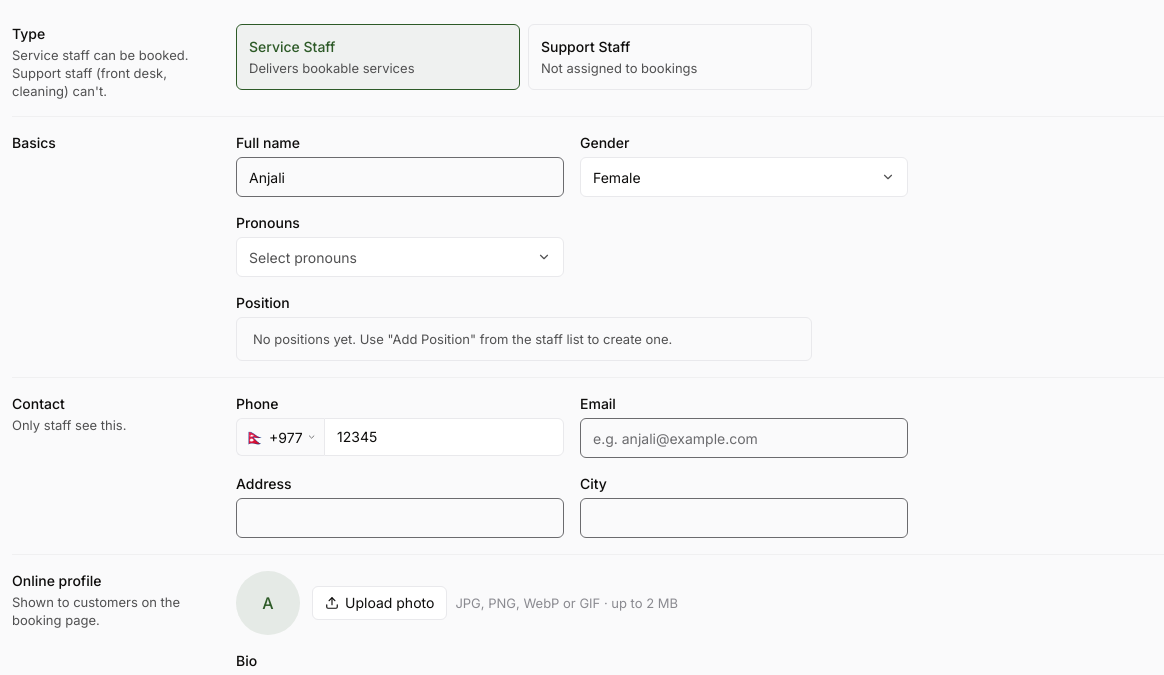
Scenario: staff profile phone (PhoneField) › renders a PhoneField; an untouched odd stored number shows no problem, a changed invalid one does
Check: the text "isn't valid for Nepal" is not shown
Replace the text in the field with id "staff-phone" with "98000" at (444, 437), box [324,418,564,456]
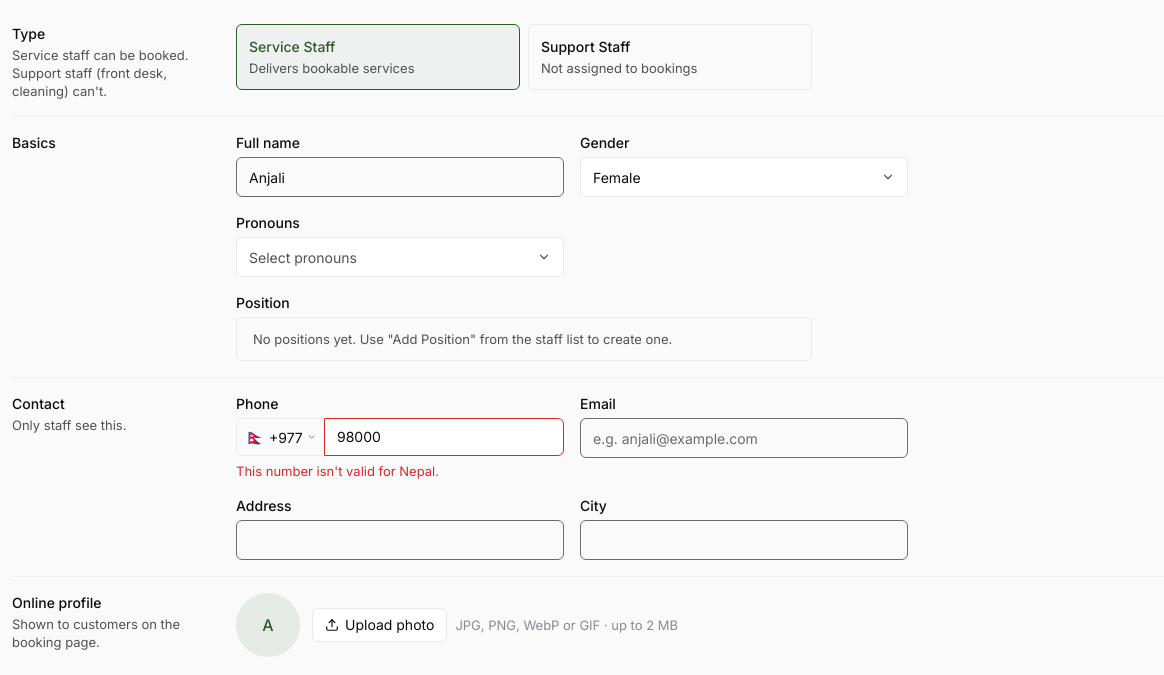
Check: the text "This number isn't valid for Nepal." is shown, box [236,463,439,479]
